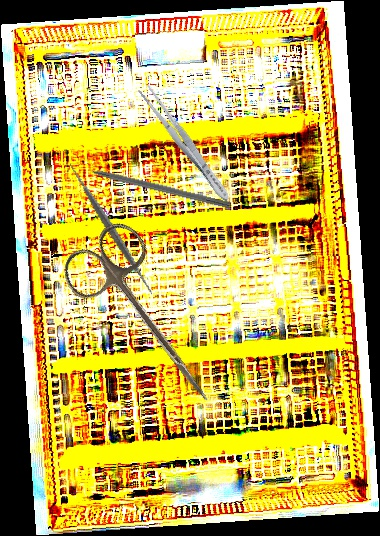Dressing Forceps: (135, 81, 235, 206)
Hook Surgical: (74, 161, 231, 210)
Iris Scissors: (53, 214, 246, 425)
Spatula Surgical: (37, 155, 185, 302)
